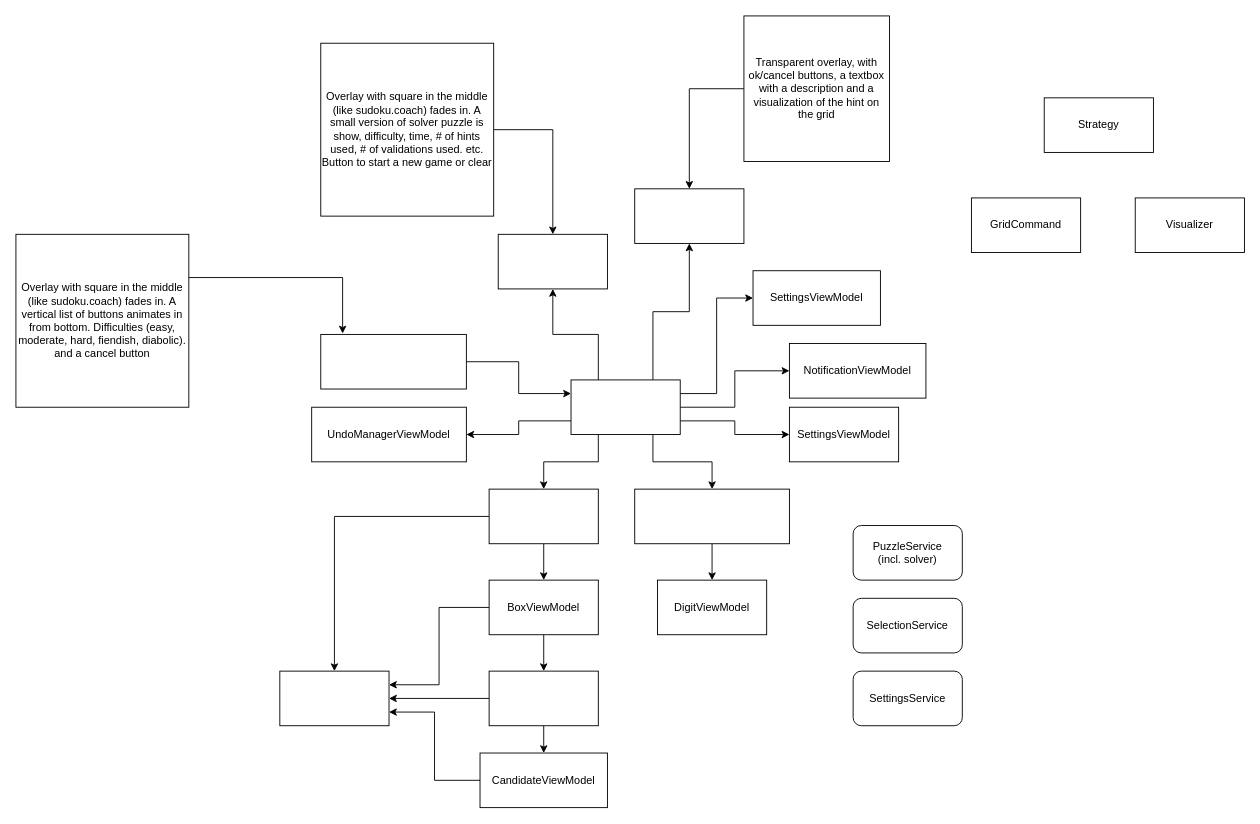
Image size: 1260x824. Some labels were removed from this diagram. The shapes that lost their labels are listed below. From the top down, each one's centre as x and y in pixels, then its label:
(689,215): HintViewModel
(552,261): VictoryViewModel
(393,361): NewGameViewModel
(625,407): MainViewModel
(543,516): GridViewModel
(711,516): DigitSelectionViewModel
(334,698): WrappeViewModel
(543,698): CellViewModel
